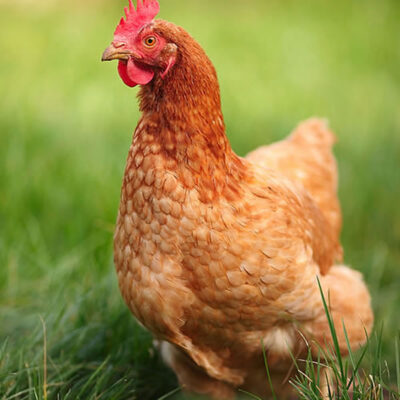Healthy: (90, 1, 380, 390)
